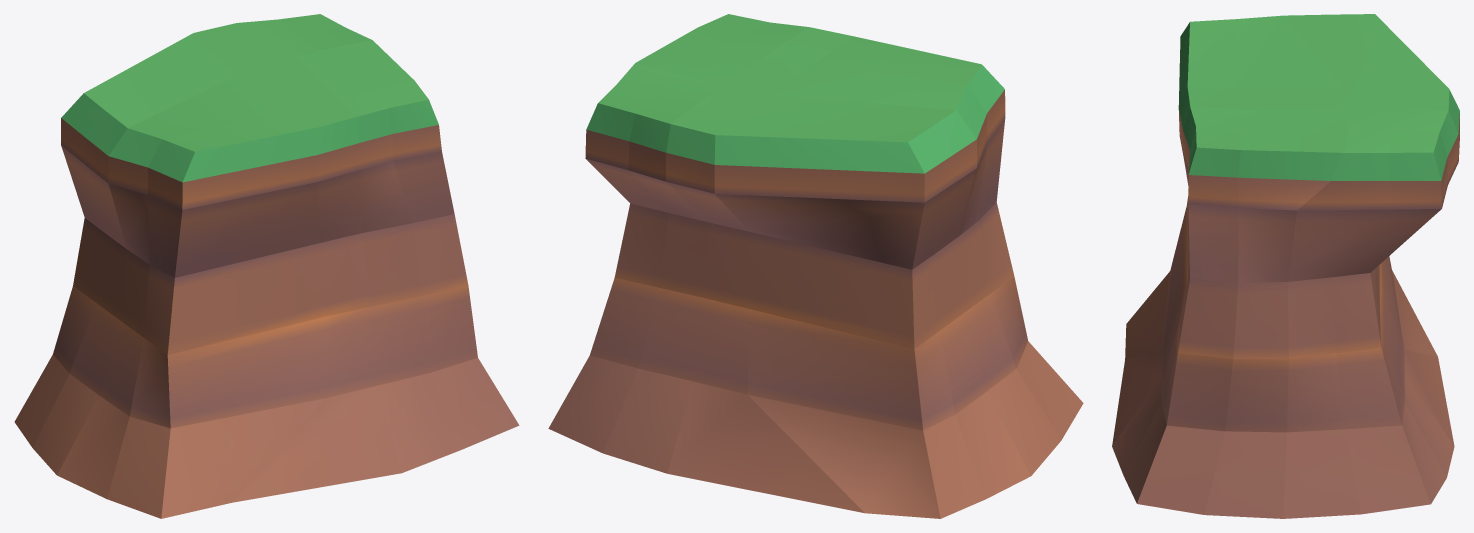
The model's file is Cliff11.fbx.
3 renders of one model, left to right at view 1: azimuth 30°, elevation 25°; view 2: azimuth 150°, elevation 25°; view 3: azimuth 270°, elevation 25°, orthographic. The views are drawn at different scales.
Parts seen in each view (by area): view 1: Cliff11; view 2: Cliff11; view 3: Cliff11.
Part boxes in pixels (<box>): Cliff11: <box>14,14,519,518</box>; Cliff11: <box>548,14,1083,518</box>; Cliff11: <box>1112,14,1459,518</box>.
Bounding box in the file's own units: 740 × 584 × 538.
